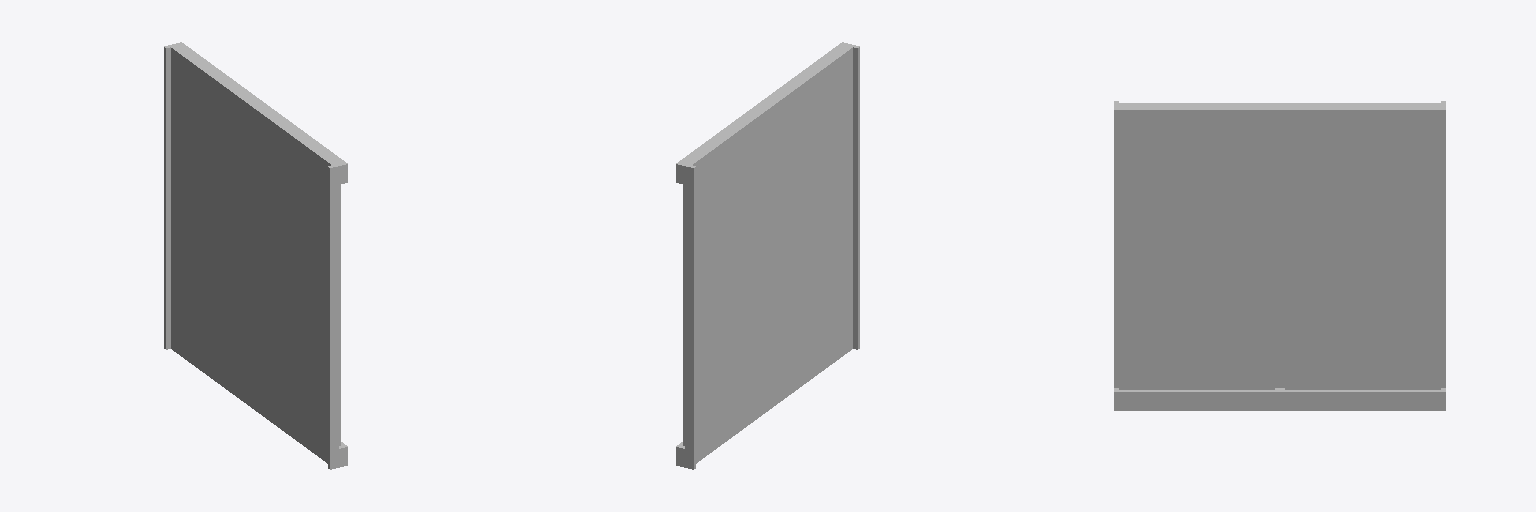
The model's file is modern_glass_door_b.obj.
The picture shows the model from 3 angles: view 1: azimuth 30°, elevation 25°; view 2: azimuth 150°, elevation 25°; view 3: azimuth 270°, elevation 25°; orthographic projection.
Bounding box in the file's own units: 4 × 64 × 64.